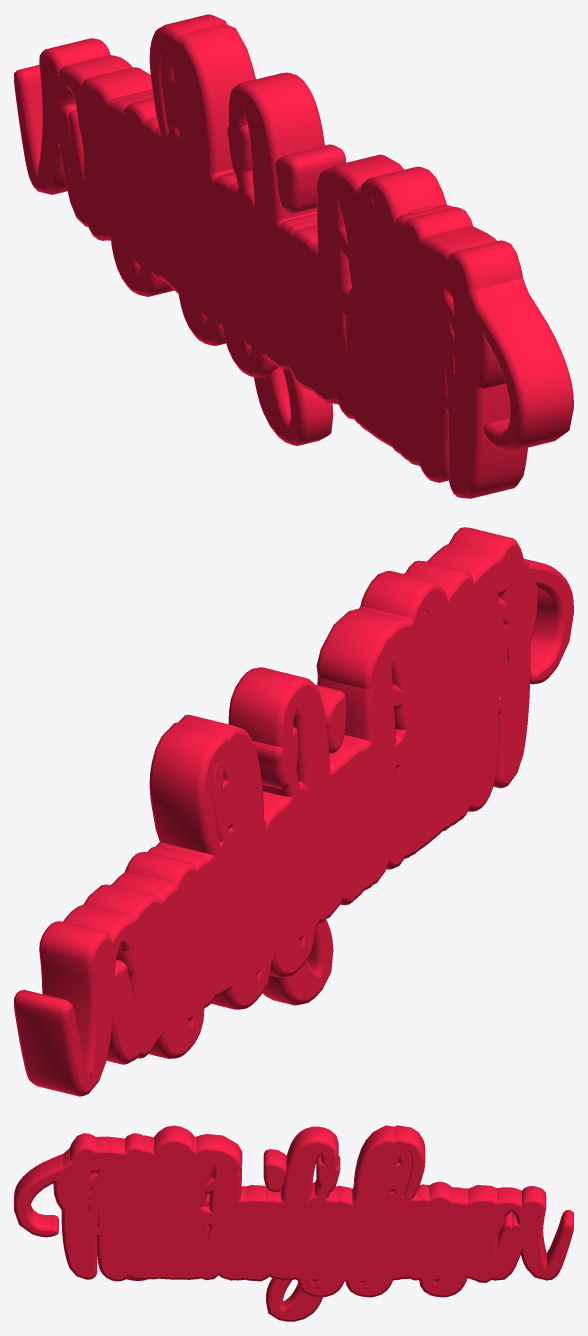
3 views of the same model, one above another, from view 1: azimuth 30°, elevation 25°; view 2: azimuth 150°, elevation 25°; view 3: azimuth 270°, elevation 25° (orthographic). The views are drawn at different scales.
Visible parts, largest first — view 1: Manisa-text, Micke-text, Erik-text, Thawa-text, Robin-text, Lasse-text, Lena-text, Inger-text; view 2: Manisa-text, Micke-text, Erik-text, Robin-text, Thawa-text, Lasse-text, Lena-text, Inger-text; view 3: Manisa-text, Micke-text, Erik-text, Thawa-text, Robin-text, Lasse-text, Lena-text, Inger-text.
Boxes of the visible parts, x1,y1,x2,y2 form: Manisa-text: (14,38,573,498); Micke-text: (60,14,473,464); Erik-text: (128,24,417,423); Thawa-text: (62,91,528,482); Robin-text: (68,72,464,448); Lasse-text: (104,115,429,465); Lena-text: (109,127,423,460); Inger-text: (254,205,436,466); Manisa-text: (14,527,573,1096); Micke-text: (83,560,527,1050); Erik-text: (156,608,470,1008); Robin-text: (111,572,518,1058); Thawa-text: (114,543,537,1058); Lasse-text: (149,611,483,1020); Lena-text: (163,606,476,1021); Inger-text: (262,919,333,1005); Manisa-text: (14,1133,573,1297); Micke-text: (68,1125,520,1280); Erik-text: (130,1125,445,1281); Thawa-text: (53,1125,517,1281); Robin-text: (77,1126,512,1282); Lasse-text: (116,1150,472,1297); Lena-text: (122,1136,466,1282); Inger-text: (126,1139,322,1321).
Bounding box in the file's own units: 0.05 × 0.3021 × 0.818.
Materials: 1 (1 with a texture image).
